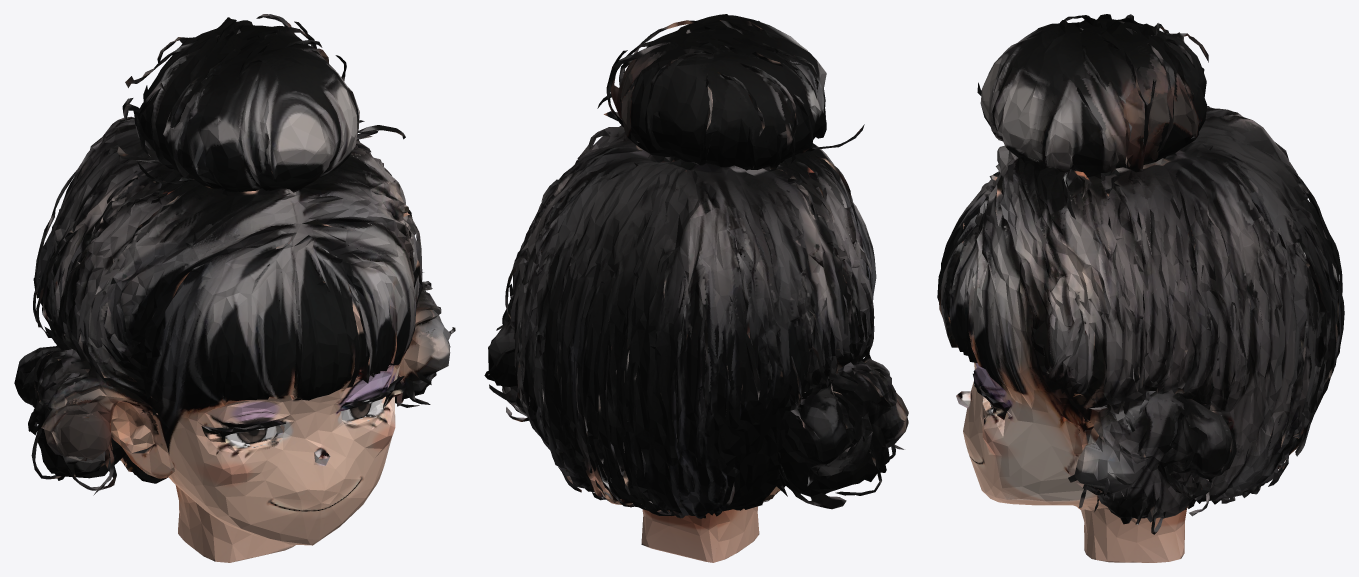
Rendered from side_fumi_repaired_atlas.glb.
3 views of the same model, side by side, from view 1: azimuth 30°, elevation 25°; view 2: azimuth 150°, elevation 25°; view 3: azimuth 270°, elevation 25° (orthographic). The views are drawn at different scales.
Parts seen in each view (by area): view 1: temp_mesh.ply; view 2: temp_mesh.ply; view 3: temp_mesh.ply.
Boxes of the visible parts, bbox=[...] form: temp_mesh.ply: bbox=[14, 14, 455, 562]; temp_mesh.ply: bbox=[484, 14, 908, 562]; temp_mesh.ply: bbox=[937, 14, 1344, 562].
Bounding box in the file's own units: 1.67 × 1.97 × 1.41.
Materials: 1 (1 with a texture image).
